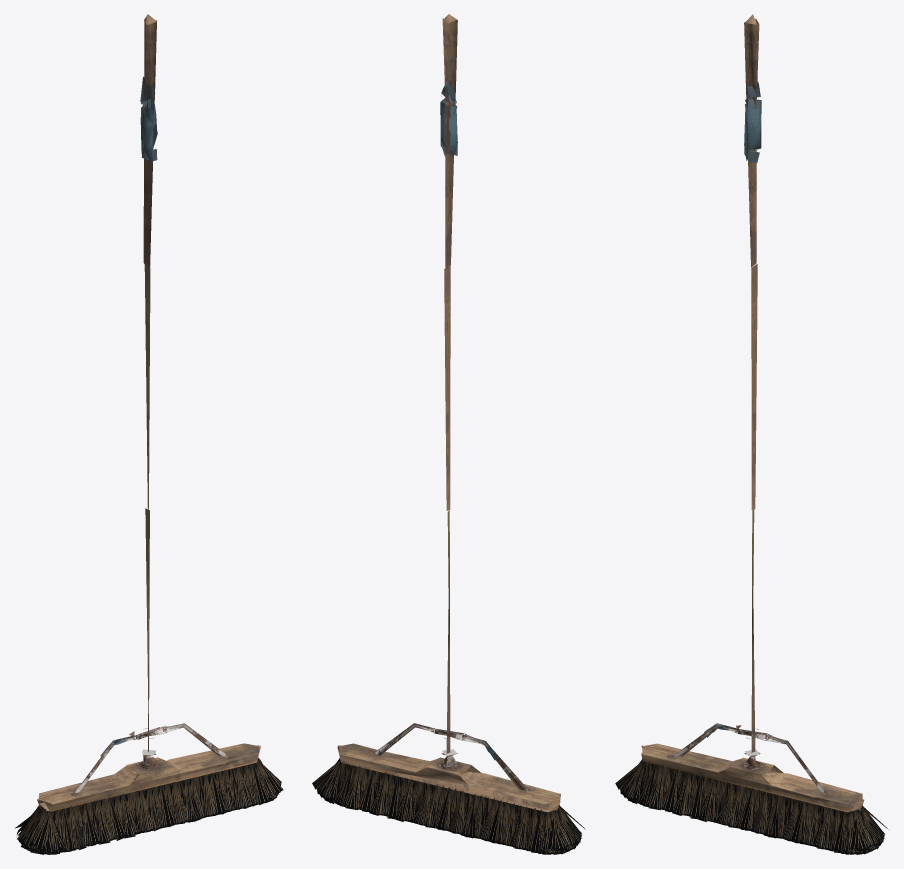
File: broom.glb
The picture shows the model from 3 angles, left to right: view 1: azimuth 30°, elevation 25°; view 2: azimuth 150°, elevation 25°; view 3: azimuth 330°, elevation 25°; orthographic projection.
Parts seen in each view (by area): view 1: wooden_broom_bristles; view 2: wooden_broom_bristles; view 3: wooden_broom_bristles.
Boxes of the visible parts, x1,y1,x2,y2 form: wooden_broom_bristles: (15,14,283,854); wooden_broom_bristles: (312,14,585,854); wooden_broom_bristles: (615,14,887,854).
Size of the model in its own units: 0.4875 by 1.46 by 0.1125.
Materials: 2 (2 with a texture image).
